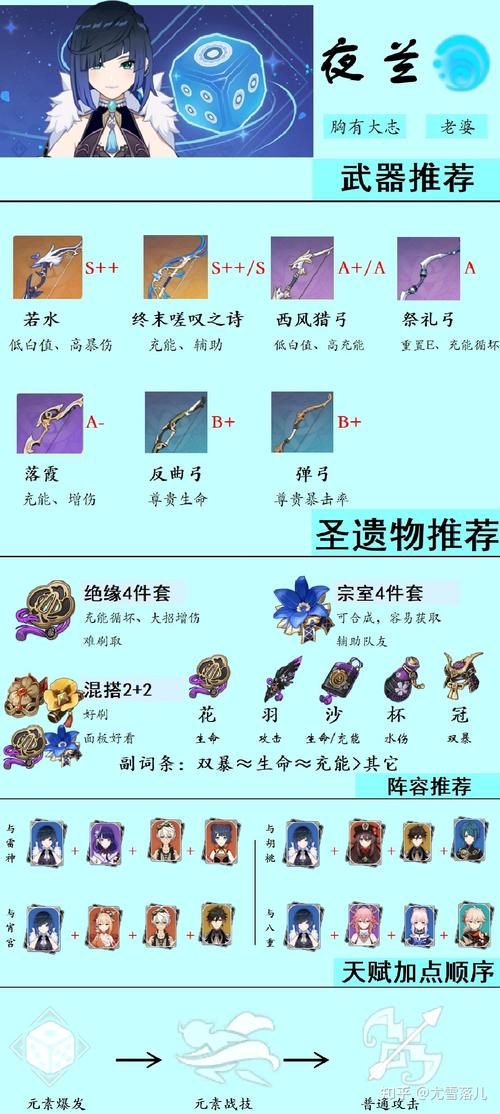夜兰: (24, 6, 186, 161)
